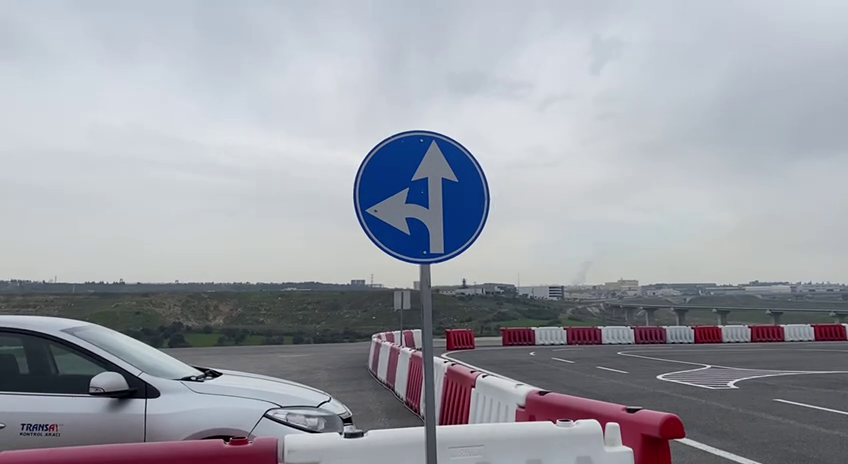forwardAndLeft: (348, 126, 495, 269)
